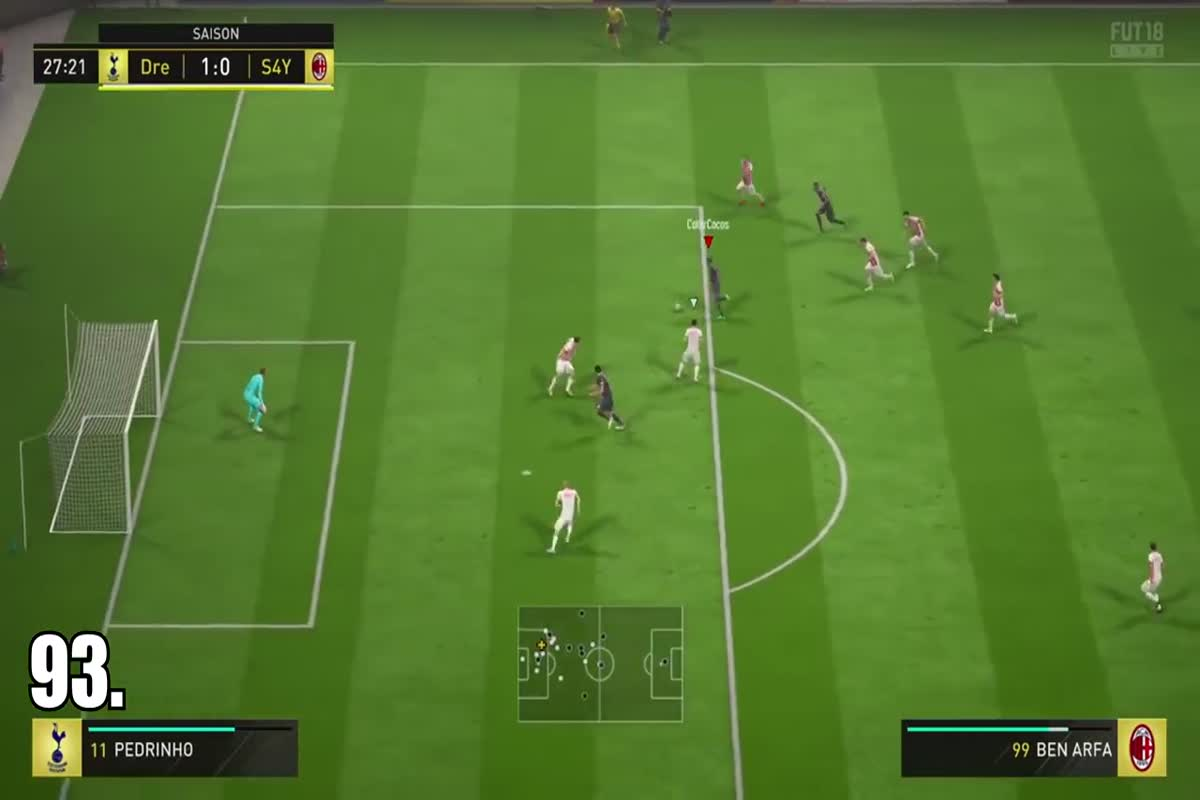ball: (666, 294, 687, 316)
